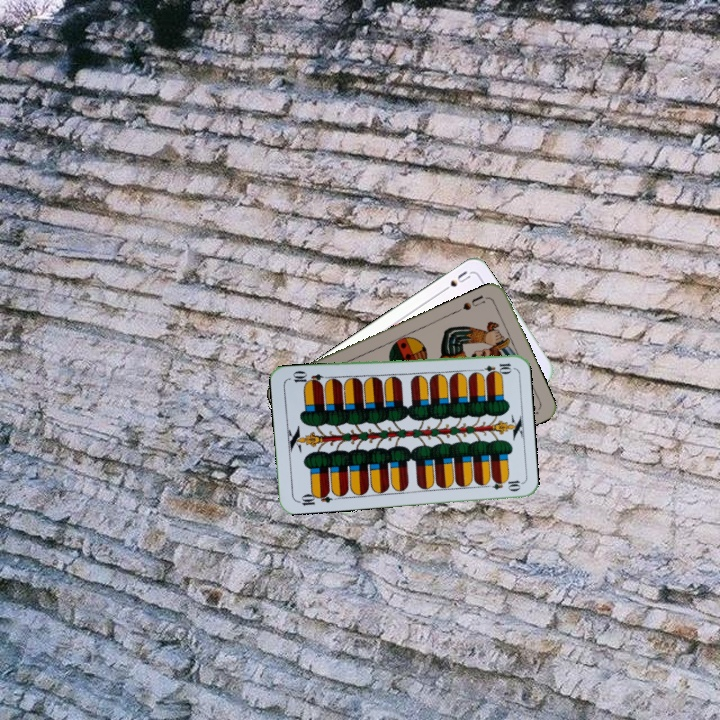E10: (294, 487, 334, 508), (473, 359, 514, 375)
SU: (437, 267, 473, 296), (452, 291, 491, 315)
